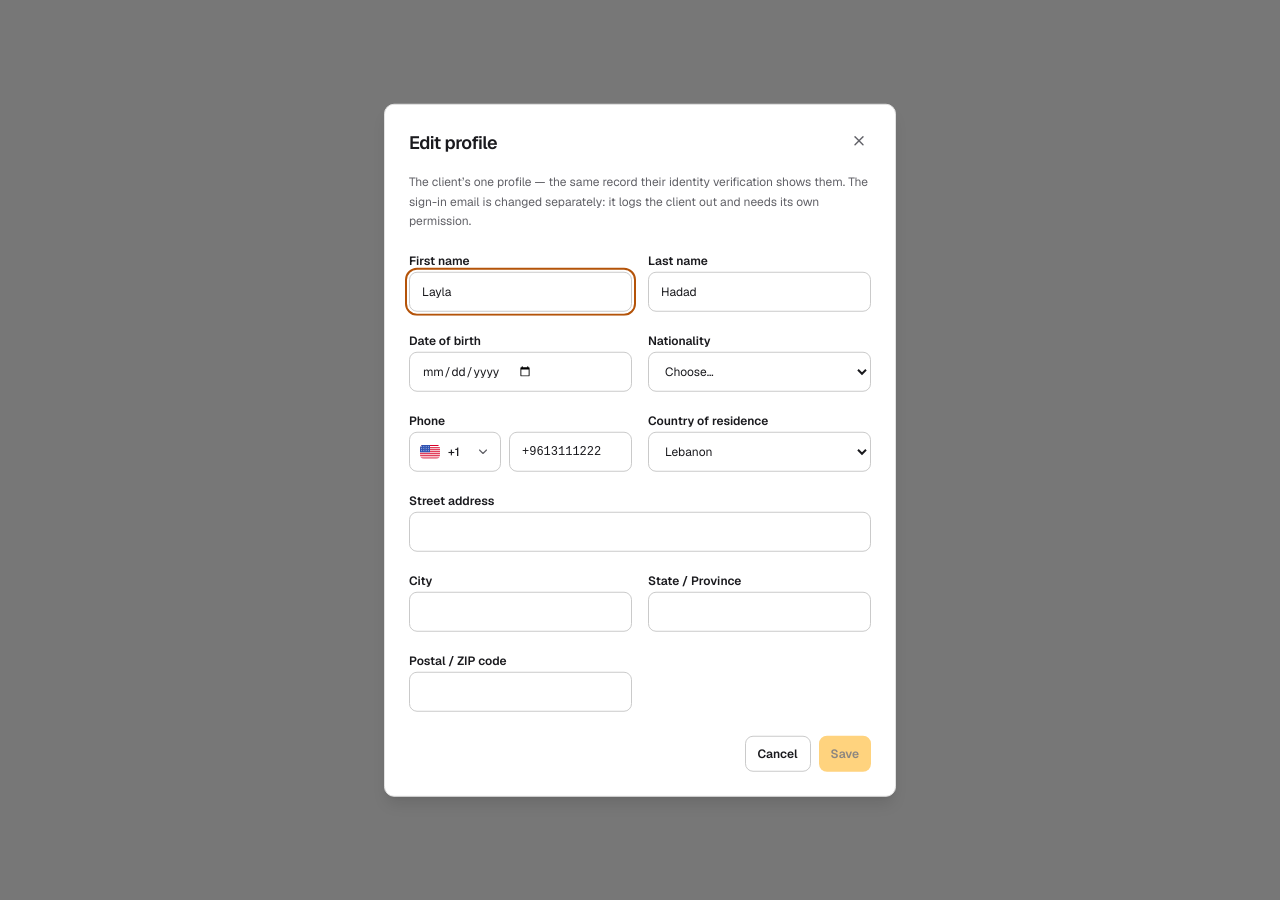
Test: EditClientProfileDialog — the whole profile (0139) › shows a lock that arrived AFTER the dialog opened the same way — under its field
Replace the text in the field showing "Layla" with "Leila" at (520, 291), box [409,271,632,311]
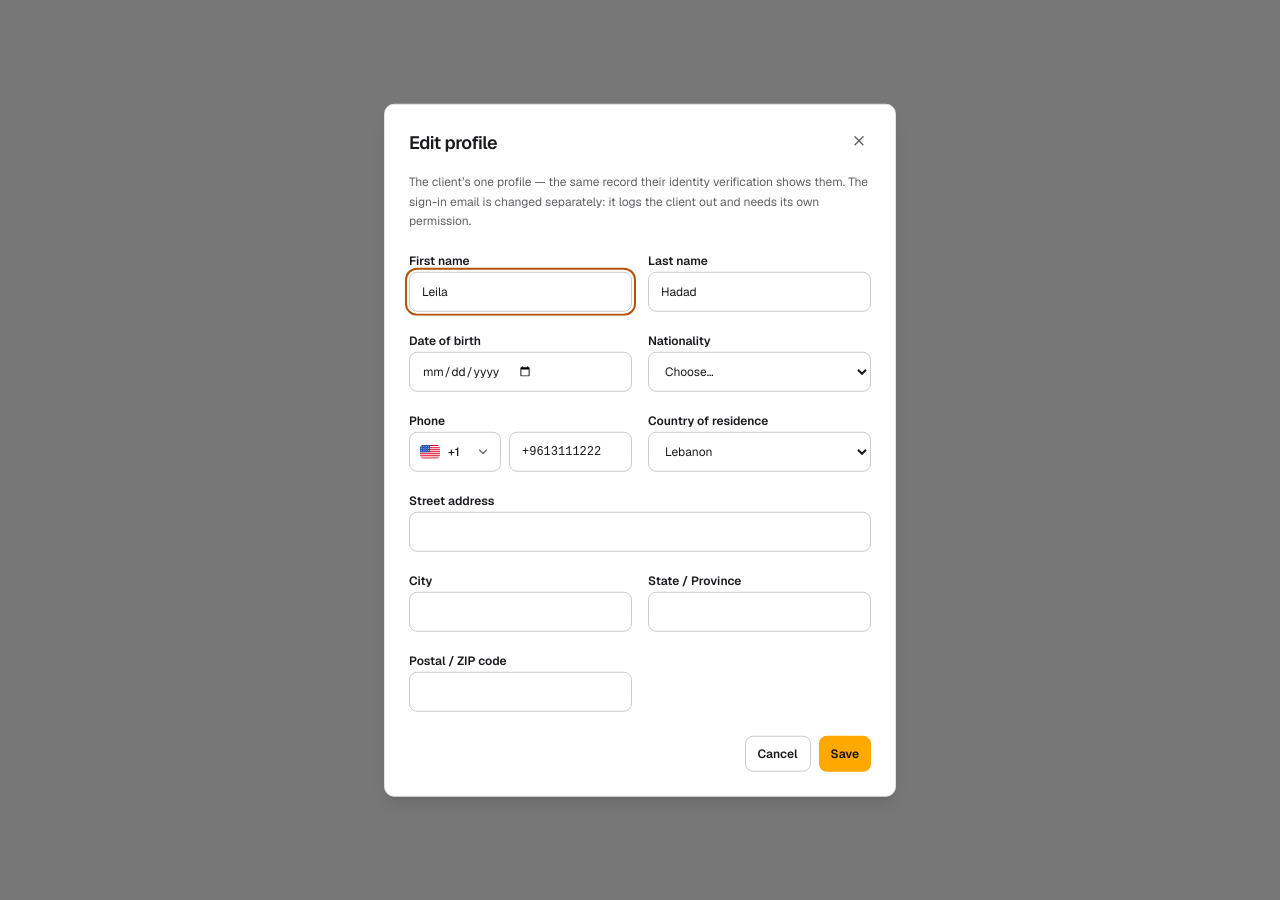
Click the button "Save" at (845, 753), box [818,735,871,771]
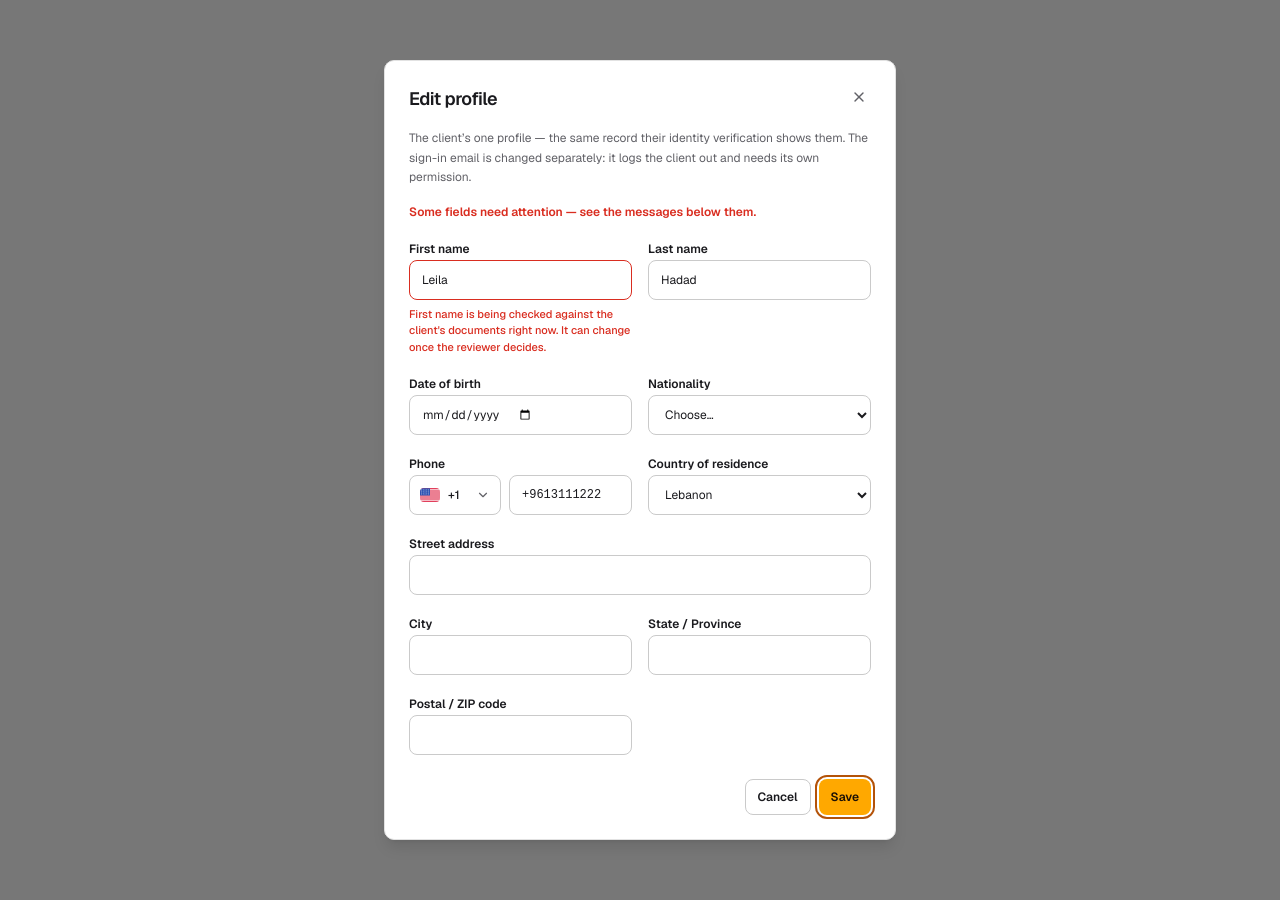
Result: the text "once the reviewer decides" is shown at [409,306,630,354]
